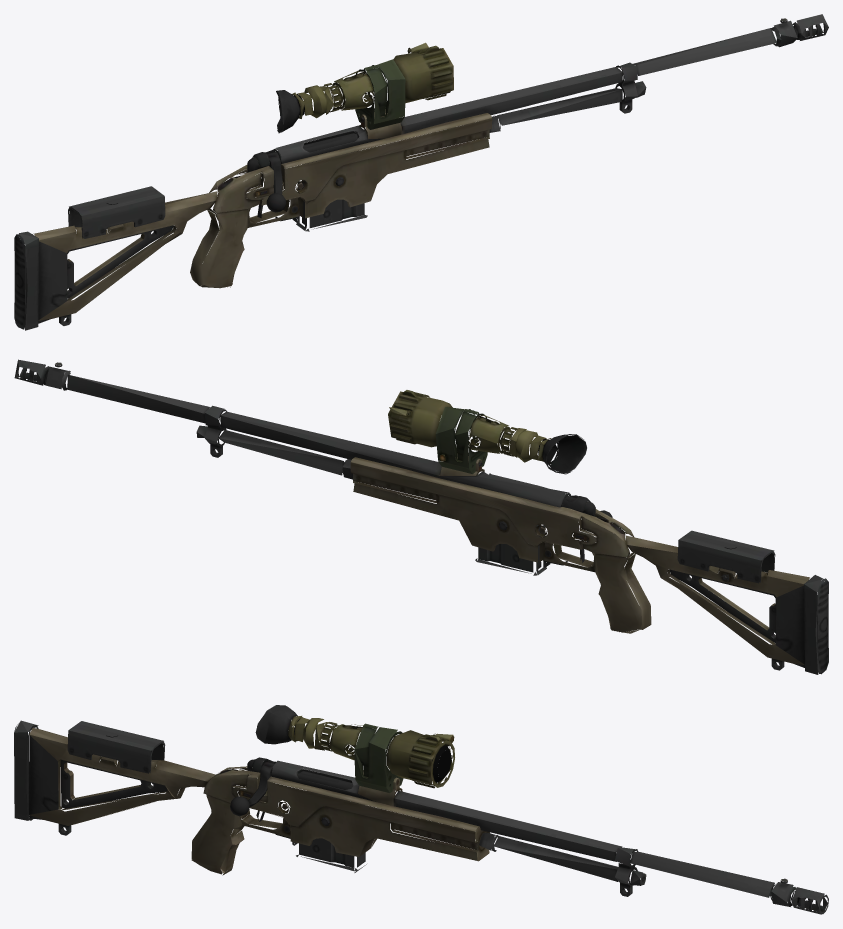
Rendered from sniper_med.glb.
3 renders of one model, top to bottom at view 1: azimuth 30°, elevation 25°; view 2: azimuth 150°, elevation 25°; view 3: azimuth 330°, elevation 25°, orthographic.
Parts seen in each view (by area): view 1: body, bolt, mag; view 2: body, mag; view 3: body, bolt, mag.
Part boxes in pixels (bbox=[...]): body: bbox=[14, 14, 828, 330]; bolt: bbox=[247, 130, 367, 212]; mag: bbox=[296, 150, 367, 231]; body: bbox=[14, 359, 828, 674]; mag: bbox=[475, 525, 546, 575]; body: bbox=[14, 705, 828, 914]; bolt: bbox=[230, 757, 353, 816]; mag: bbox=[296, 791, 366, 872].
Bounding box in the file's own units: 1.15 × 0.256 × 0.094.
Materials: 1 (1 with a texture image).
